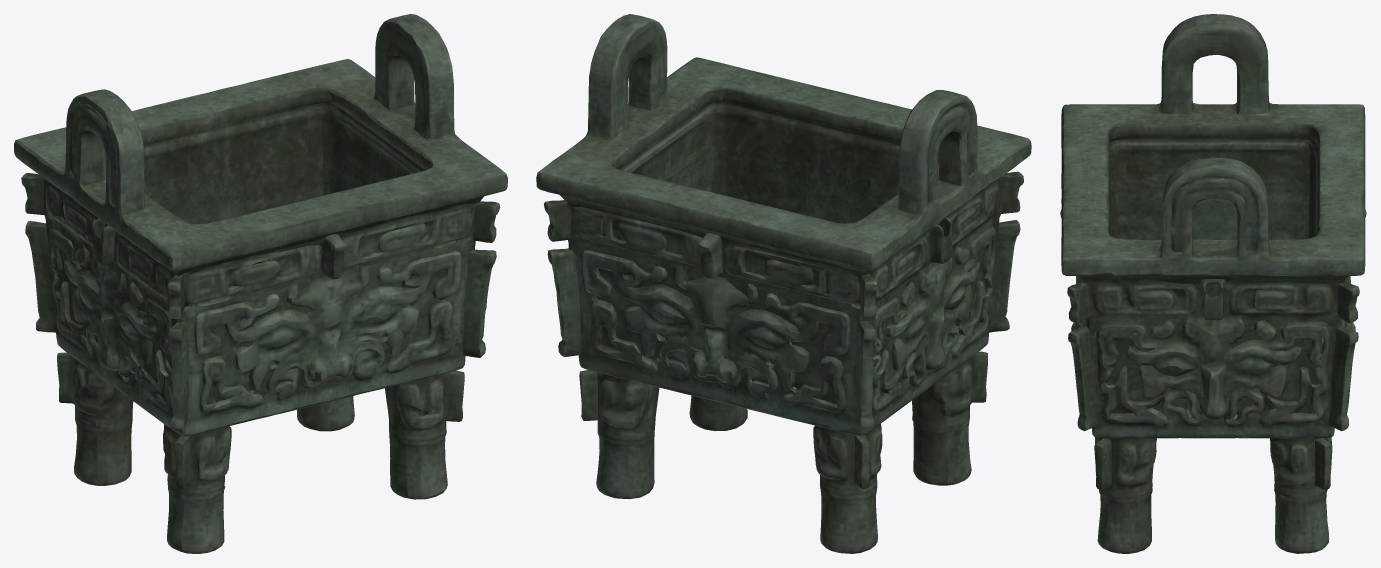
File: bronze-ding.glb
3 views of the same model, side by side, from view 1: azimuth 30°, elevation 25°; view 2: azimuth 150°, elevation 25°; view 3: azimuth 270°, elevation 25° (orthographic). The views are drawn at different scales.
Parts seen in each view (by area): view 1: geometry_0; view 2: geometry_0; view 3: geometry_0.
Part boxes in pixels (x1,y1,x2,y2): geometry_0: [14, 14, 507, 553]; geometry_0: [536, 14, 1031, 553]; geometry_0: [1060, 14, 1366, 553].
Bounding box in the file's own units: 0.7938 × 0.95 × 0.6553.
Materials: 1 (1 with a texture image).
